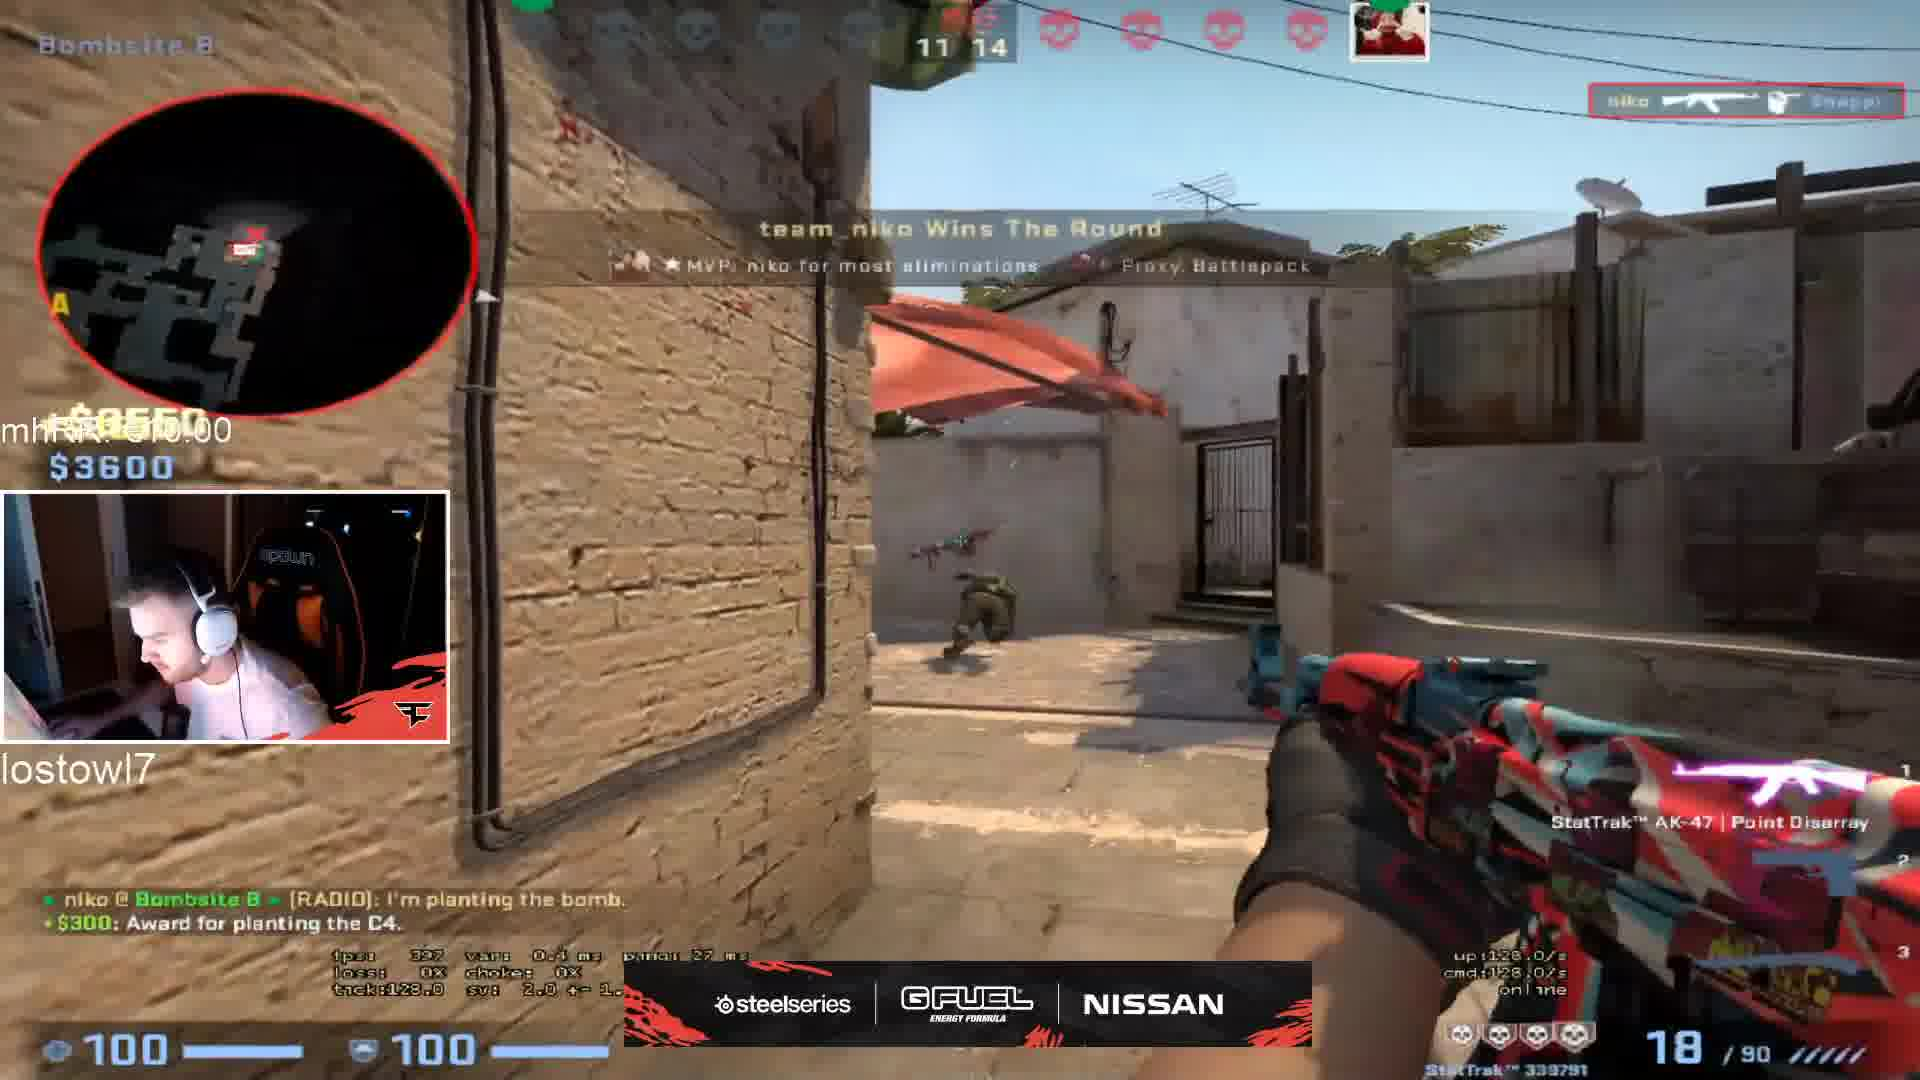enemy: (945, 560, 1026, 655)
